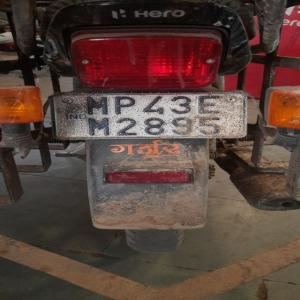Plate: (59, 92, 247, 138)
